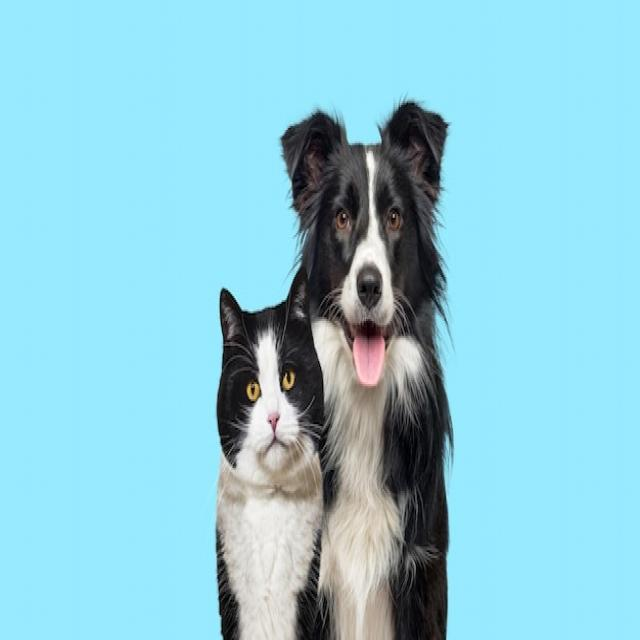cat: (212, 260, 330, 640)
dog: (296, 89, 470, 636)
